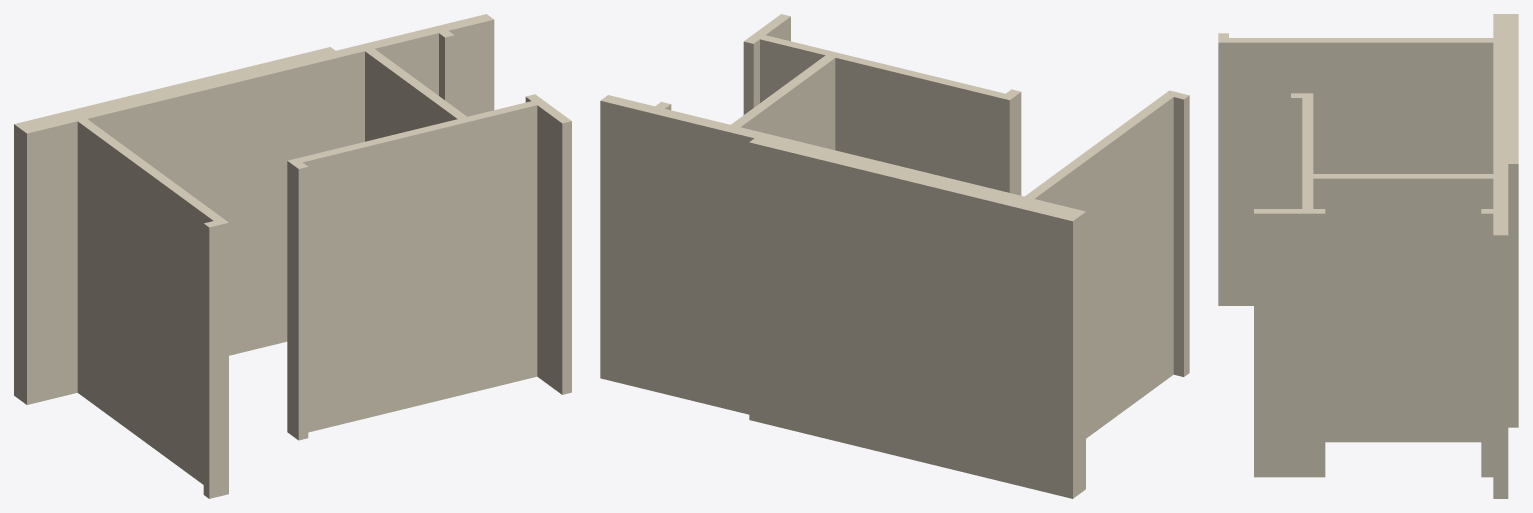
3 views of the same model, side by side, from view 1: azimuth 30°, elevation 25°; view 2: azimuth 150°, elevation 25°; view 3: azimuth 270°, elevation 25° (orthographic). The views are drawn at different scales.
Parts seen in each view (by area): view 1: A-FF-WALL-020; view 2: A-FF-WALL-020; view 3: A-FF-WALL-020.
Part boxes in pixels (x1,y1,x2,y2): A-FF-WALL-020: [14, 14, 571, 498]; A-FF-WALL-020: [600, 14, 1189, 498]; A-FF-WALL-020: [1218, 14, 1518, 498].
Size of the model in its own units: 4.36 by 2.42 by 2.5.
